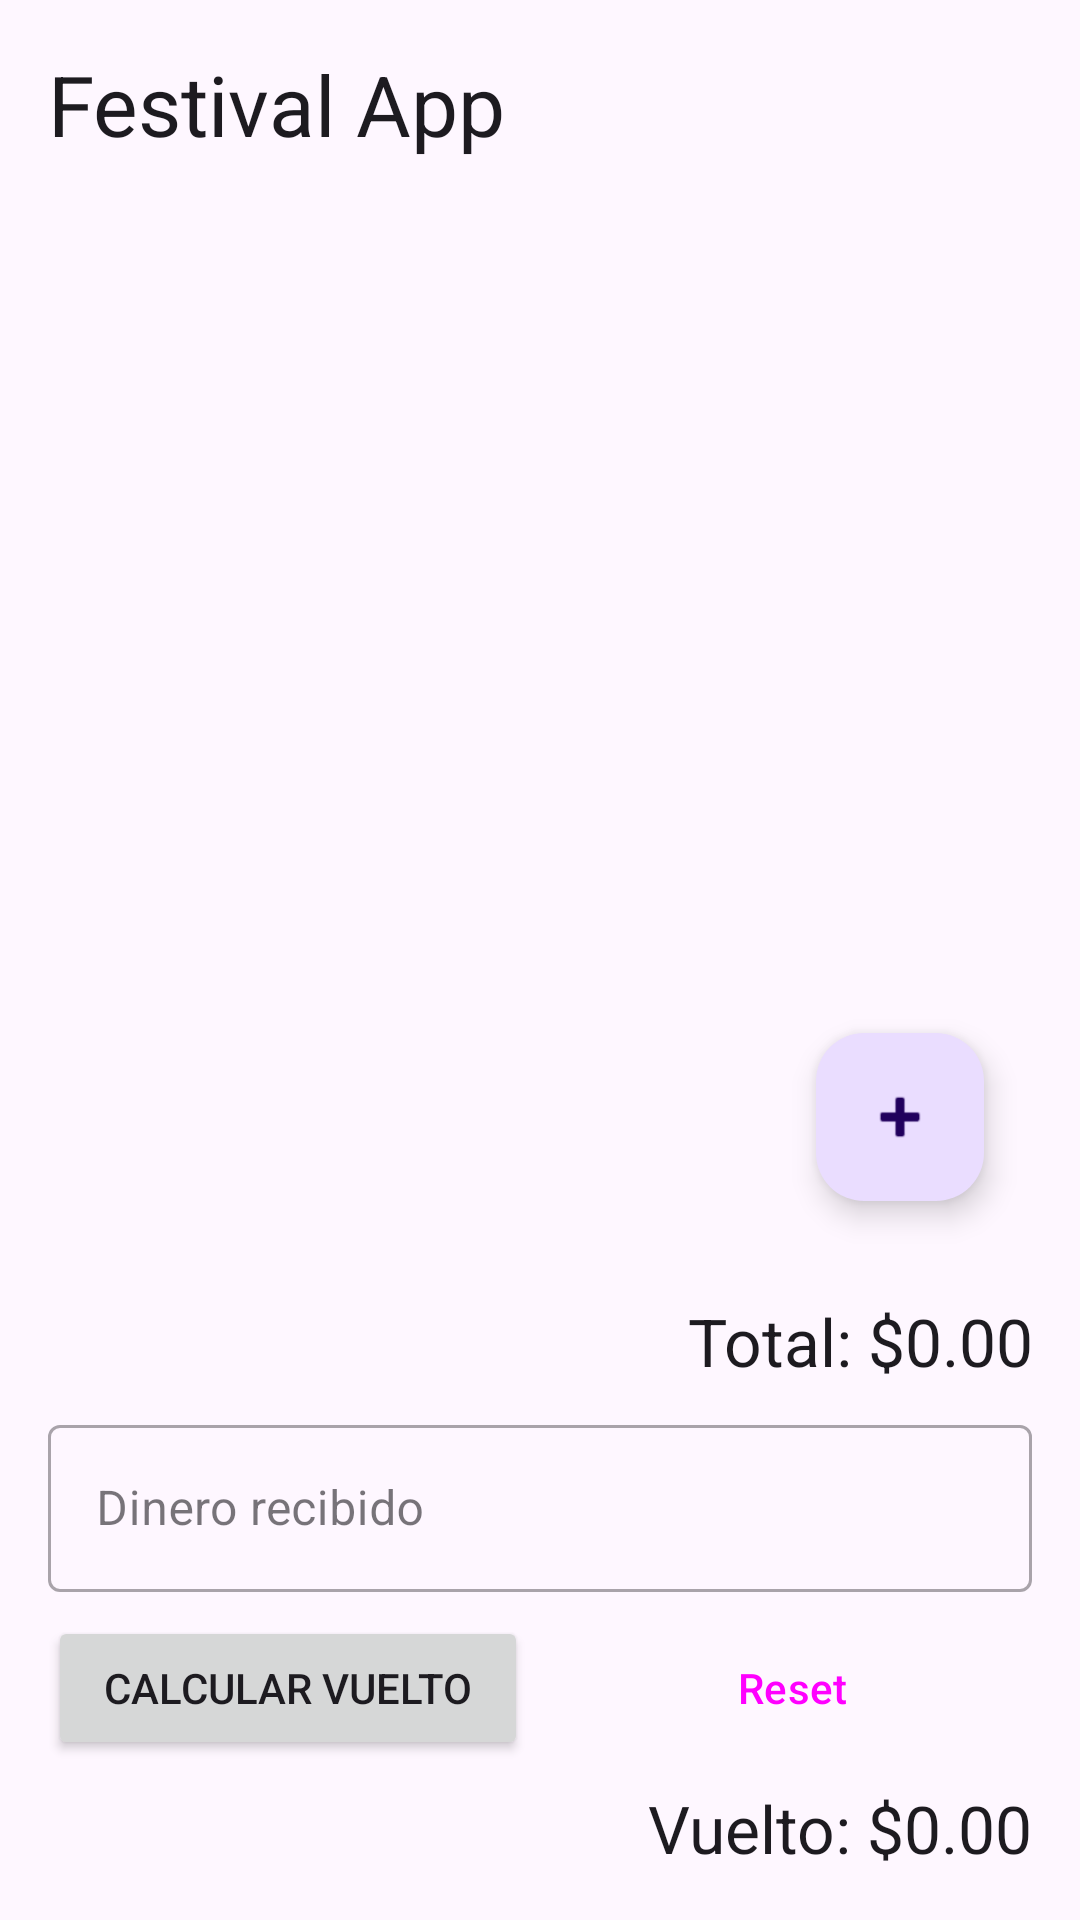

Where to tap for icons on this 1080*1920 app screen, as point (x, y):
add: point (900, 1117)
